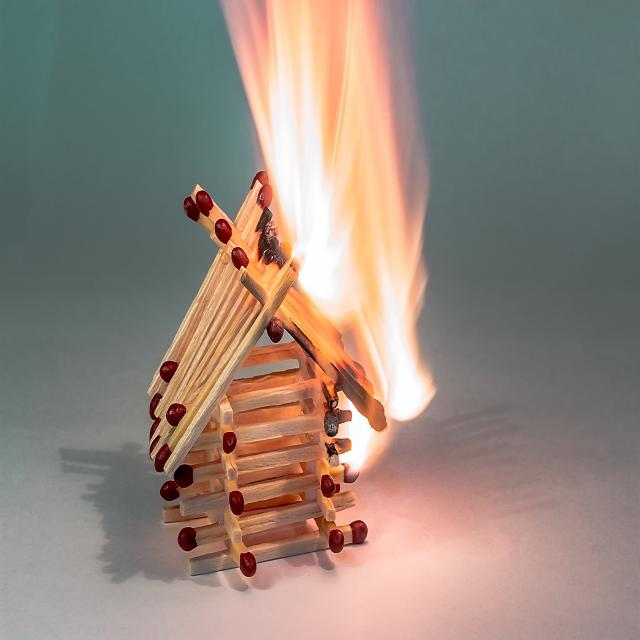fire: (227, 0, 474, 475)
